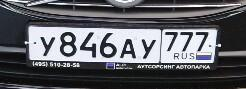license-plateSW: (26, 25, 218, 63)
